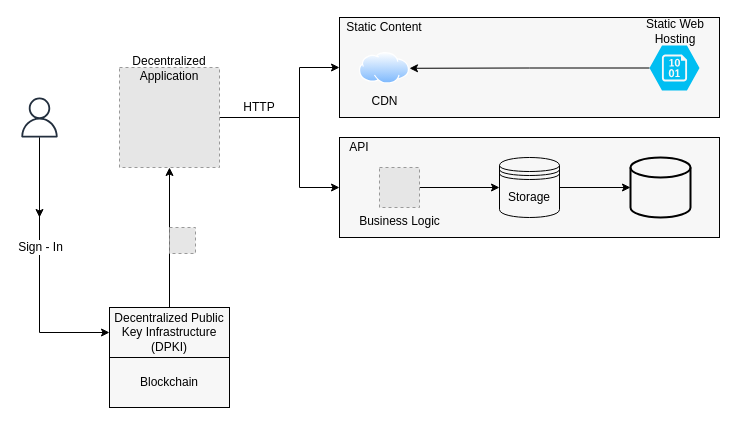
This 737x425 diagram has some shape labels left out. Grey dashed boxes stand in for pictures. The shapes that lost their labels are listed below. From the top down, each one's centre as x and y in pixels, then its label:
At (674,67): "Storage blob".
At (660,187): "Database".
